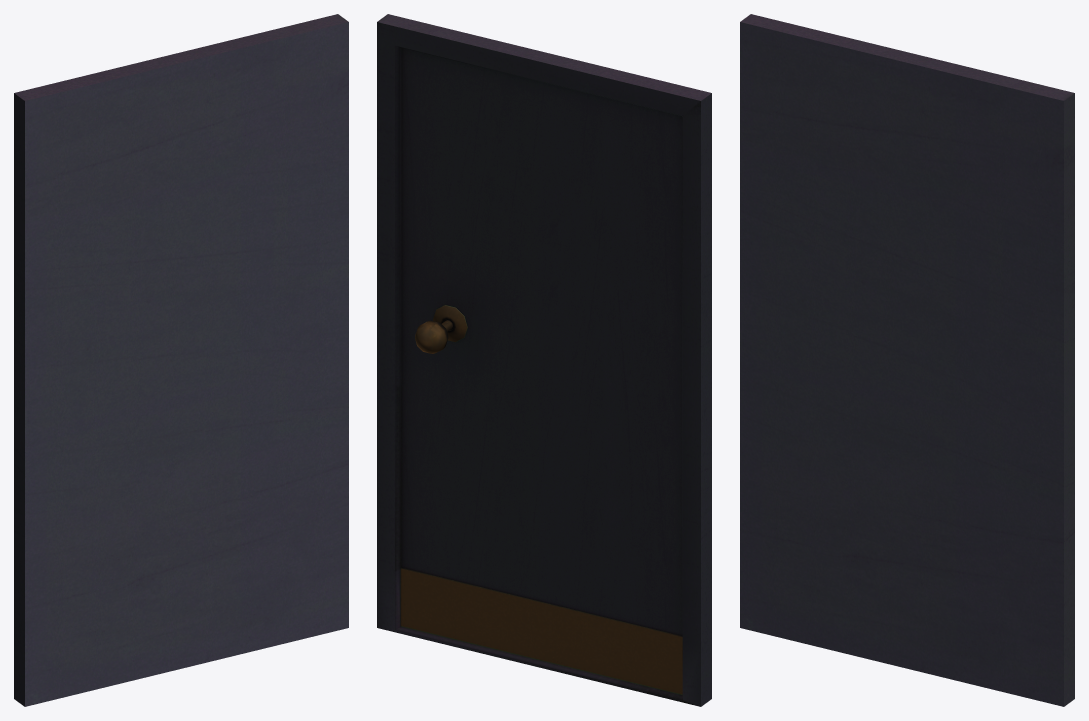
File: doorEXIT.obj
3 views of the same model, side by side, from view 1: azimuth 30°, elevation 25°; view 2: azimuth 150°, elevation 25°; view 3: azimuth 330°, elevation 25° (orthographic).
Parts seen in each view (by area): view 1: DoorEXIT; view 2: DoorEXIT; view 3: DoorEXIT.
Part boxes in pixels (x1,y1,x2,y2): DoorEXIT: (14, 14, 348, 706); DoorEXIT: (377, 14, 711, 706); DoorEXIT: (740, 14, 1074, 706).
Bounding box in the file's own units: 1.17 × 2.09 × 0.2128.
Materials: 1 (1 with a texture image).
